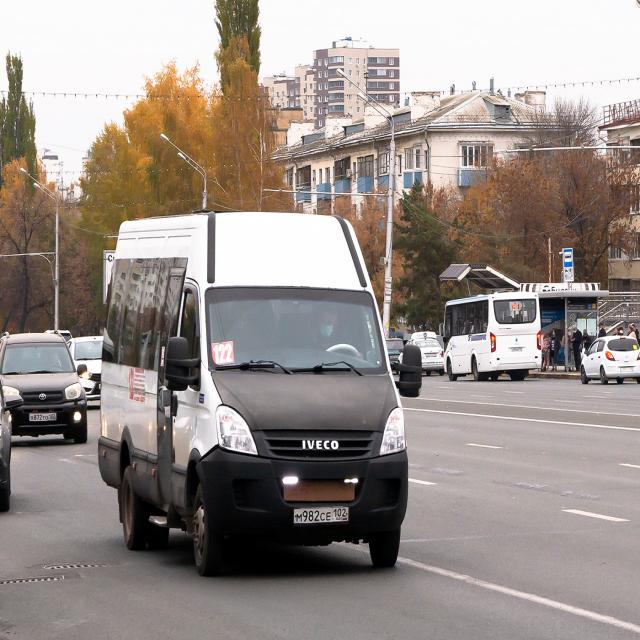number-of-bus: (214, 345, 236, 365)
